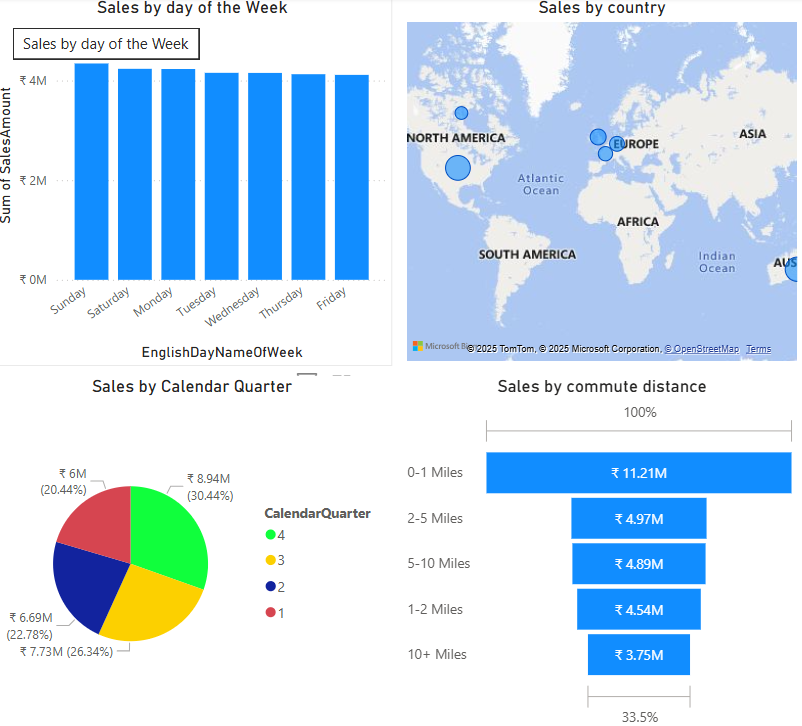

The page's visual inventory and layout, read from the dashboard file:
{"tool":"powerbi","page":{"name":"Page 1","canvas":[1280,720],"ordinal":0},"visuals":[{"type":"columnChart","title":"Sales by day of the Week","fields":{"Y":["Sum(FactInternetSales.SalesAmount)"],"Category":["DimDate.EnglishDayNameOfWeek"]},"box":[10.8,0,391.3,360.7],"z":0},{"type":"pieChart","title":"Sales by Calendar Quarter","fields":{"Y":["Sum(FactInternetSales.SalesAmount)"],"Category":["DimDate.CalendarQuarter"]},"box":[11,371,391,349],"z":1000},{"type":"map","title":"Sales by country","fields":{"Category":["DimSalesTerritory.SalesTerritoryCountry"],"Size":["Sum(FactInternetSales.SalesAmount)"]},"box":[412,0,391,361],"z":2000},{"type":"funnel","title":"Sales by commute distance","fields":{"Category":["DimCustomer.CommuteDistance"],"Y":["Sum(FactInternetSales.SalesAmount)"]},"box":[412,371,391,349],"z":3000}]}

Visuals, with their boxes on the page's 1280x720 design canvas (x1, y1, x2, y2). These are canvas units, not pixel positions in the 802x726 screenshot, which may show the page scaled, cropped or inside an application window:
"Sales by day of the Week" columnChart: 11, 0, 402, 361
"Sales by Calendar Quarter" pieChart: 11, 371, 402, 720
"Sales by country" map: 412, 0, 803, 361
"Sales by commute distance" funnel: 412, 371, 803, 720
